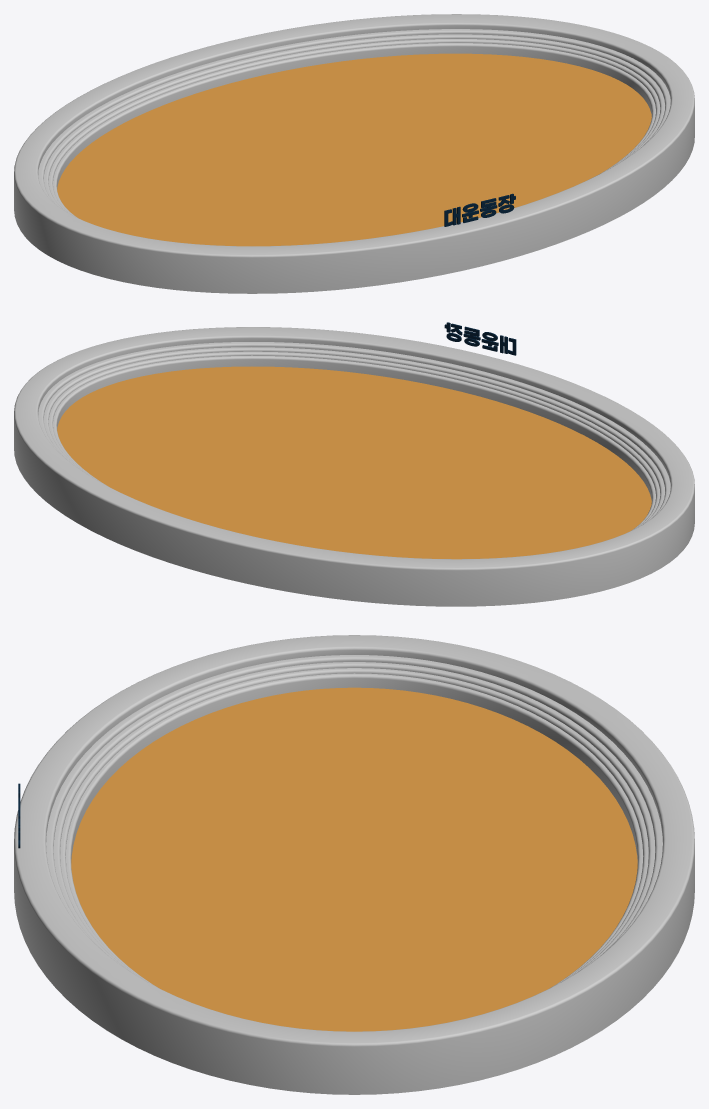
Rendered from 대운동장.fbx.
The picture shows the model from 3 angles, top to bottom: view 1: azimuth 30°, elevation 25°; view 2: azimuth 150°, elevation 25°; view 3: azimuth 270°, elevation 25°; orthographic projection. The views are drawn at different scales.
Visible parts, largest first — view 1: Cylinder_3, Cylinder_2, Extrude_1; view 2: Cylinder_3, Cylinder_2, Extrude_1; view 3: Cylinder_3, Cylinder_2.
Boxes of the visible parts, box(x1,y1,x2,y2) form: Cylinder_3: box(57, 53, 651, 246); Cylinder_2: box(14, 14, 694, 293); Extrude_1: box(444, 193, 515, 226); Cylinder_3: box(57, 366, 651, 559); Cylinder_2: box(14, 327, 694, 606); Extrude_1: box(444, 322, 516, 355); Cylinder_3: box(71, 687, 637, 1031); Cylinder_2: box(14, 635, 694, 1094).
Size of the model in its own units: 3470 by 357 by 2435.
